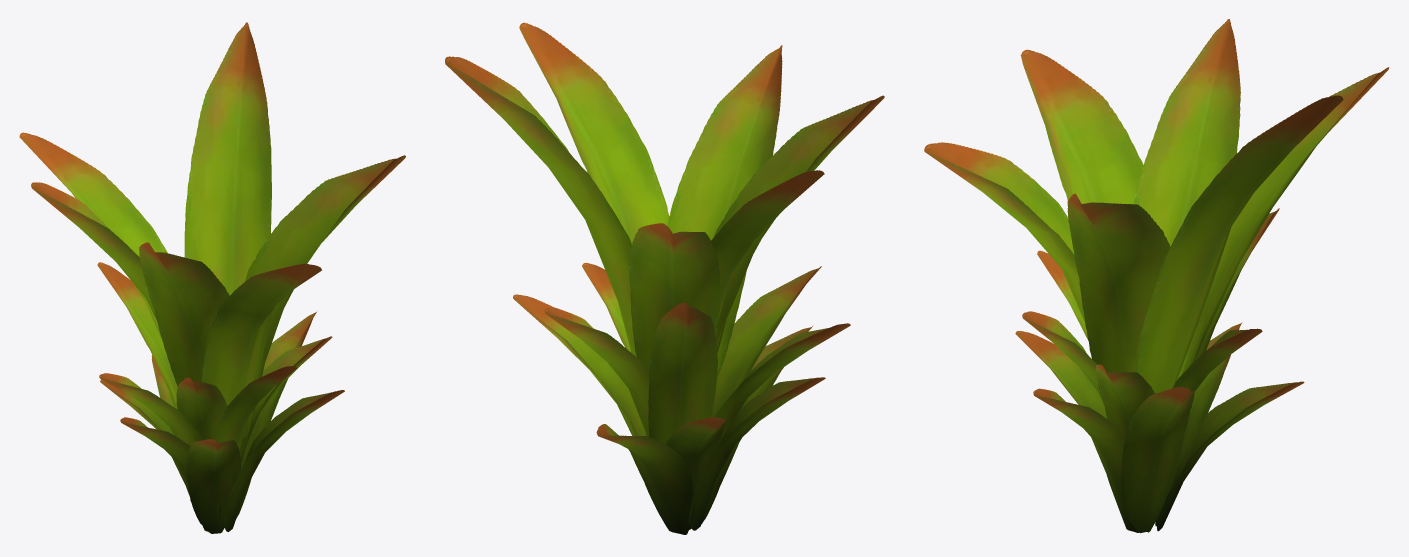
Rendered from Plant_1_Big.glb.
3 renders of one model, left to right at view 1: azimuth 30°, elevation 25°; view 2: azimuth 150°, elevation 25°; view 3: azimuth 270°, elevation 25°, orthographic. The views are drawn at different scales.
Parts seen in each view (by area): view 1: Plant_1_Big; view 2: Plant_1_Big; view 3: Plant_1_Big.
Boxes of the visible parts, <box> form: Plant_1_Big: <box>19,22,405,533</box>; Plant_1_Big: <box>445,22,884,534</box>; Plant_1_Big: <box>924,19,1389,533</box>.
Size of the model in its own units: 1.81 by 2.35 by 1.95.
1 material, 1 textured.
